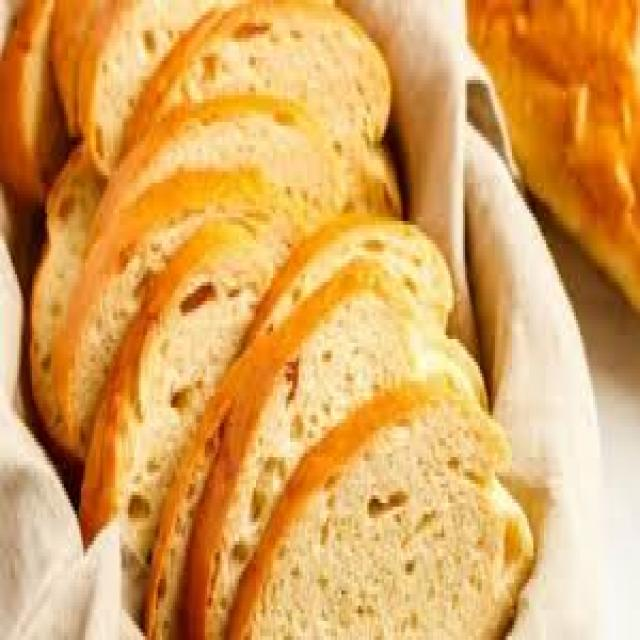organic waste: (137, 210, 450, 636), (177, 259, 486, 636), (79, 210, 311, 575), (224, 362, 531, 636), (51, 164, 316, 461), (115, 0, 401, 217), (463, 0, 638, 309), (77, 91, 330, 248), (26, 141, 96, 457), (0, 0, 68, 209), (47, 0, 111, 141)
